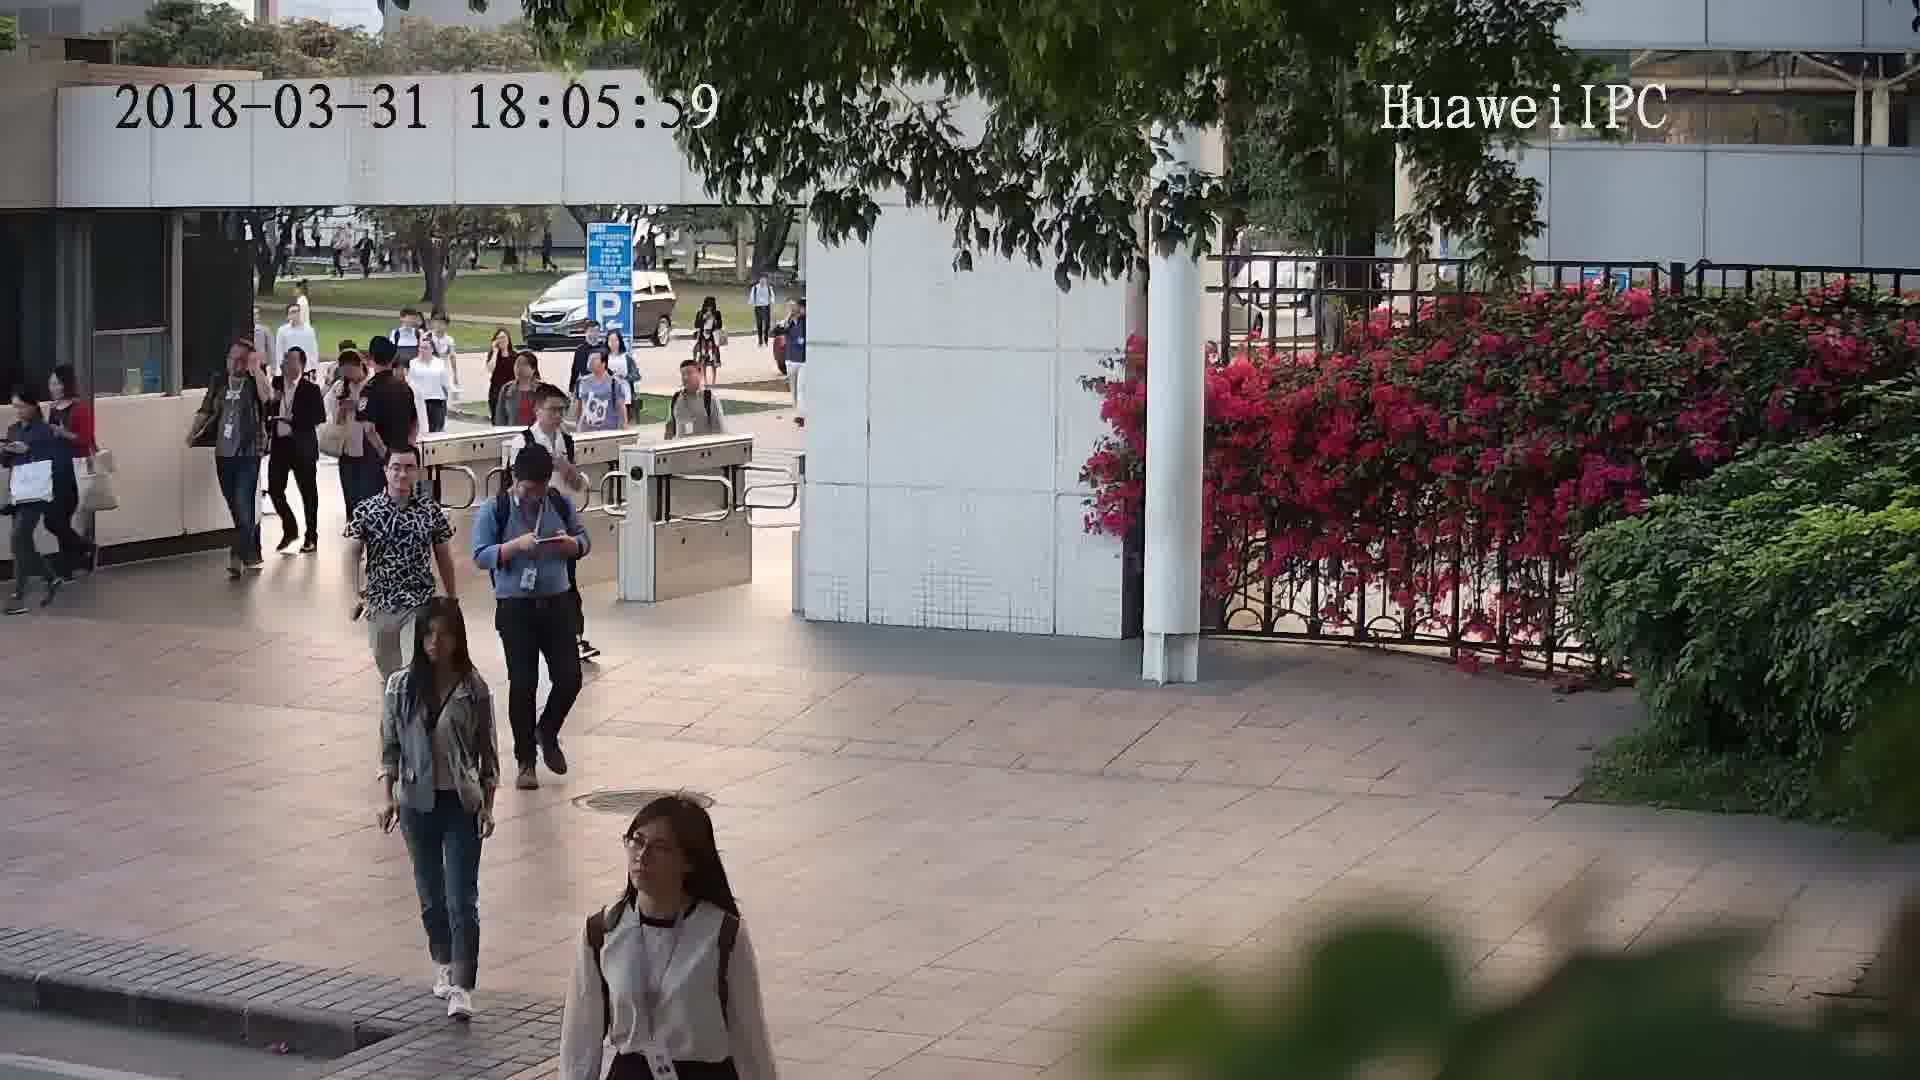face: (616, 817, 693, 894), (413, 611, 464, 662)
person: (596, 788, 749, 948), (385, 592, 500, 711), (357, 443, 446, 529), (483, 443, 574, 524), (518, 387, 580, 448), (9, 378, 62, 444), (359, 334, 412, 395), (211, 336, 263, 396), (46, 359, 94, 419), (671, 356, 722, 411), (329, 346, 375, 404), (504, 350, 553, 404), (274, 344, 322, 398), (275, 294, 317, 343), (578, 349, 623, 393), (408, 334, 450, 378), (388, 302, 429, 344), (773, 297, 812, 336), (602, 326, 635, 365), (488, 326, 521, 364), (427, 311, 459, 344), (698, 294, 724, 322), (752, 267, 776, 290)
